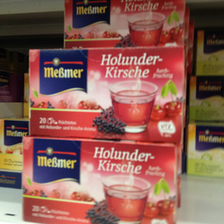tea: (27, 46, 182, 143), (22, 135, 181, 224), (63, 1, 185, 46)
